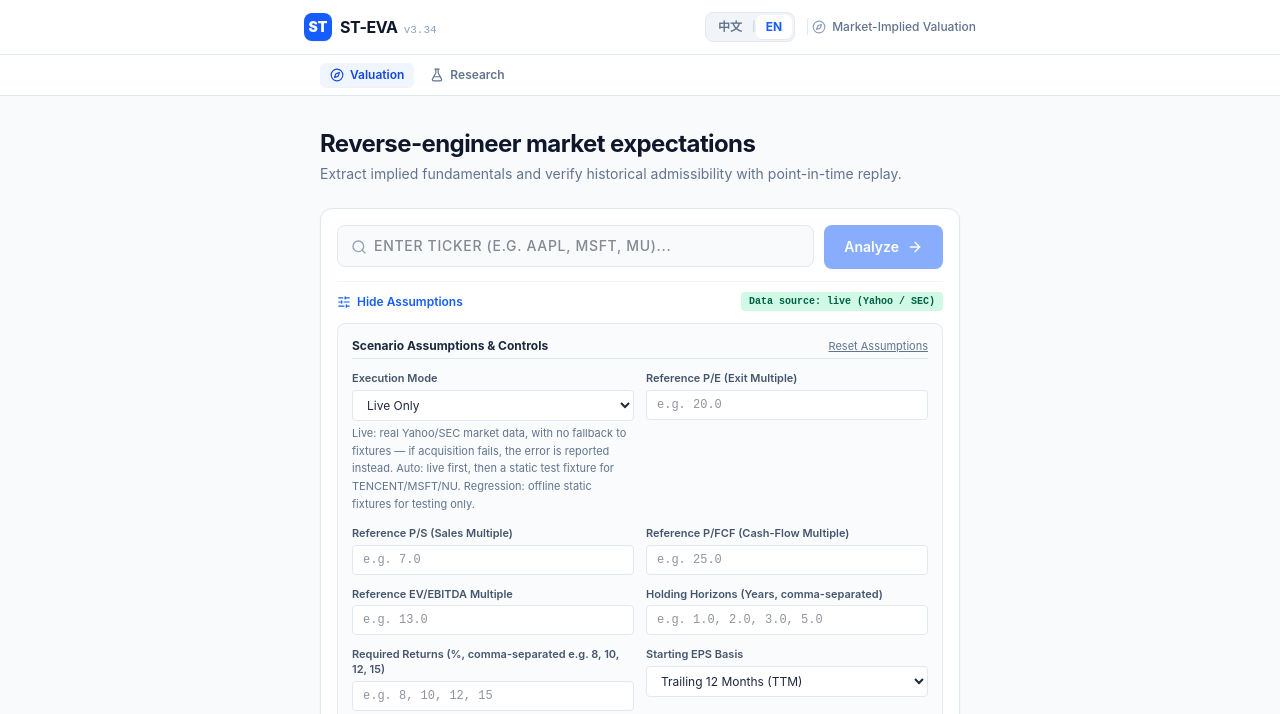
Scenario: ST-EVA Frontend App Component › renders the reverse-requirements matrix as the primary answer before supporting cards
Type "AAPL" into the field with placeholder "Enter ticker (e.g. AAPL, MSFT, MU)..." at (576, 246), box [337,225,814,267]
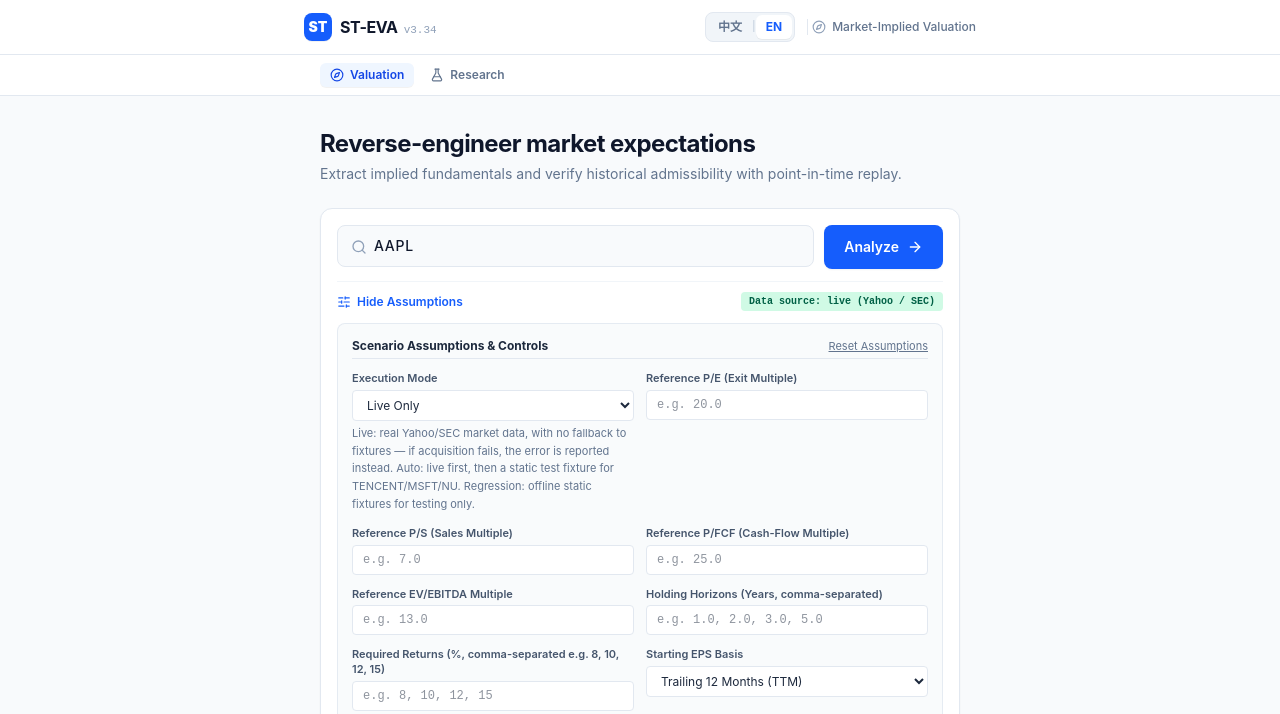
Click the button "Analyze" at (884, 247), box [824,225,943,269]
(page scrolled)
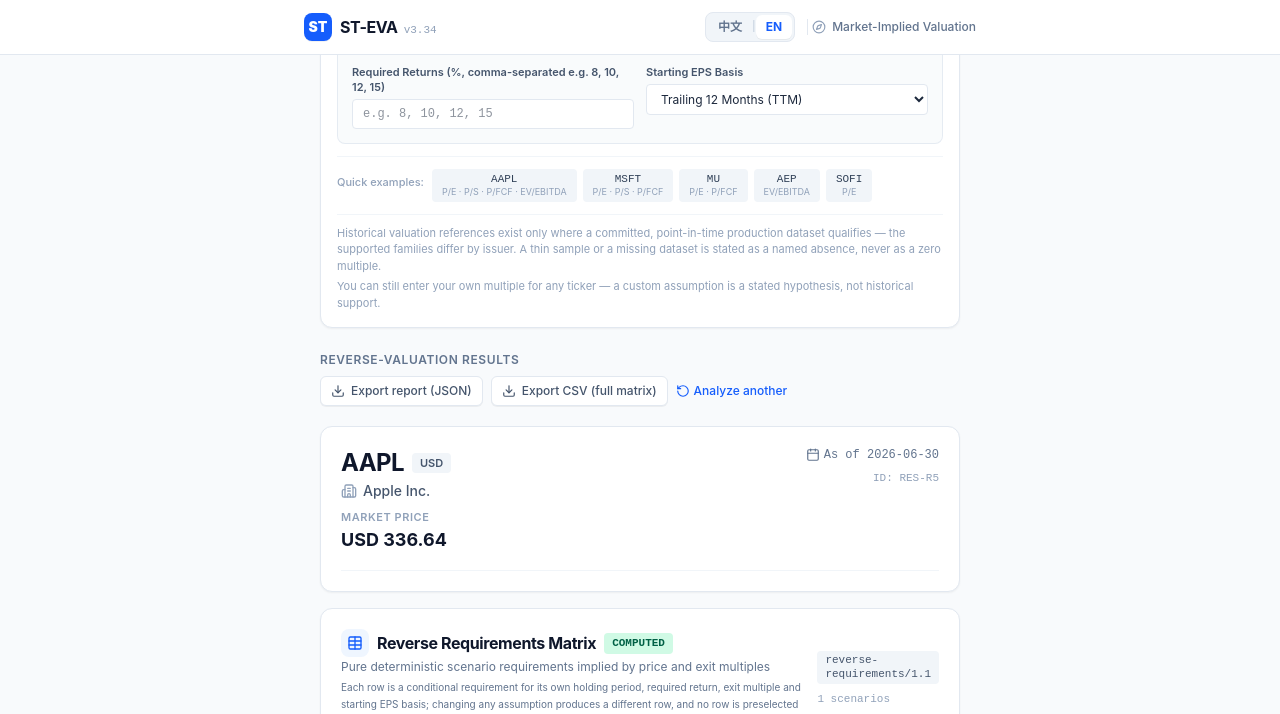
Result: the text "Apple Inc." is shown at [363,481,430,501]
Result: the text "Reverse-Valuation Results" is shown at [320,352,519,368]
